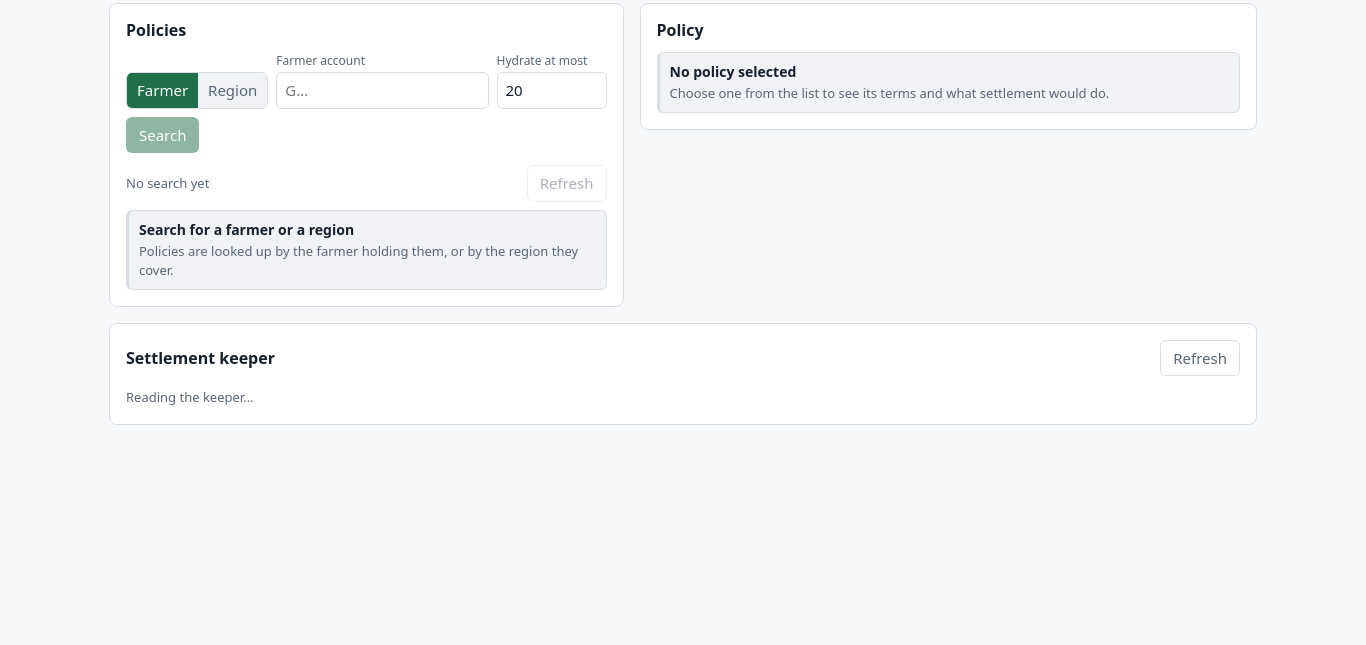
Test: one policy › shows the reason a settlement was refused
In the field labelled "Farmer account": (382, 90) [276, 72, 488, 108], type "GBZX"
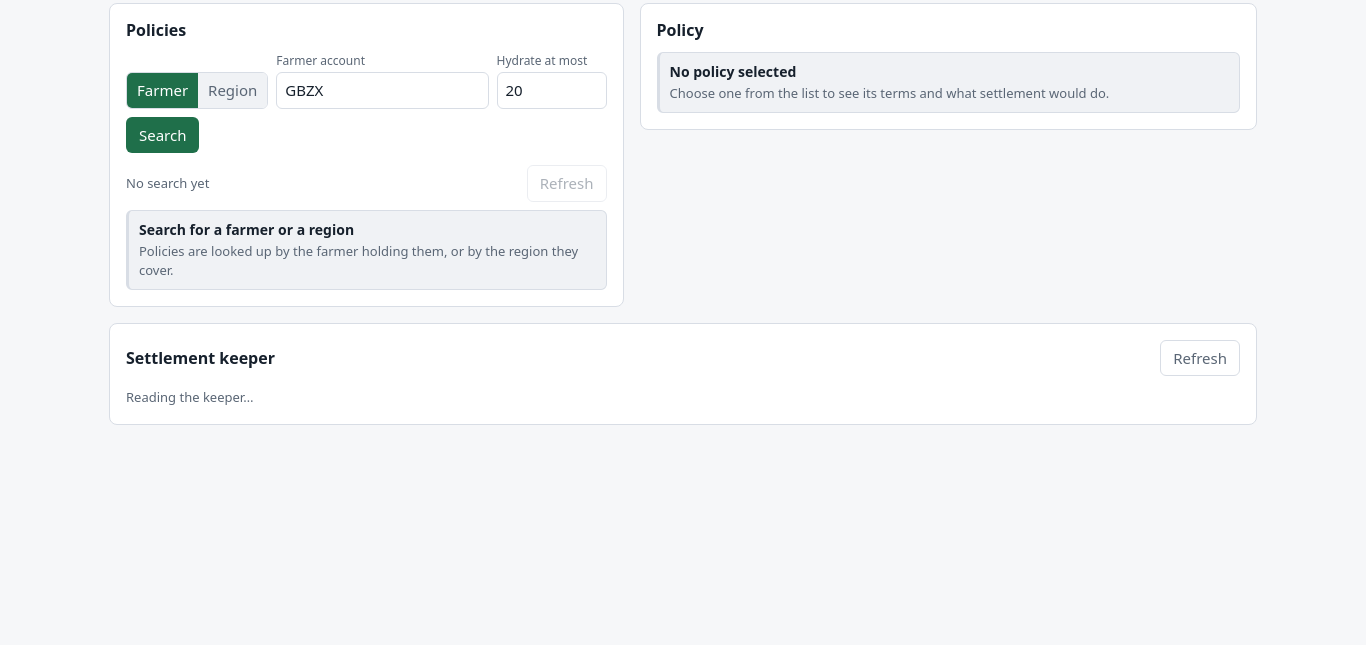
Click the button "Search": (163, 135) [126, 116, 200, 153]
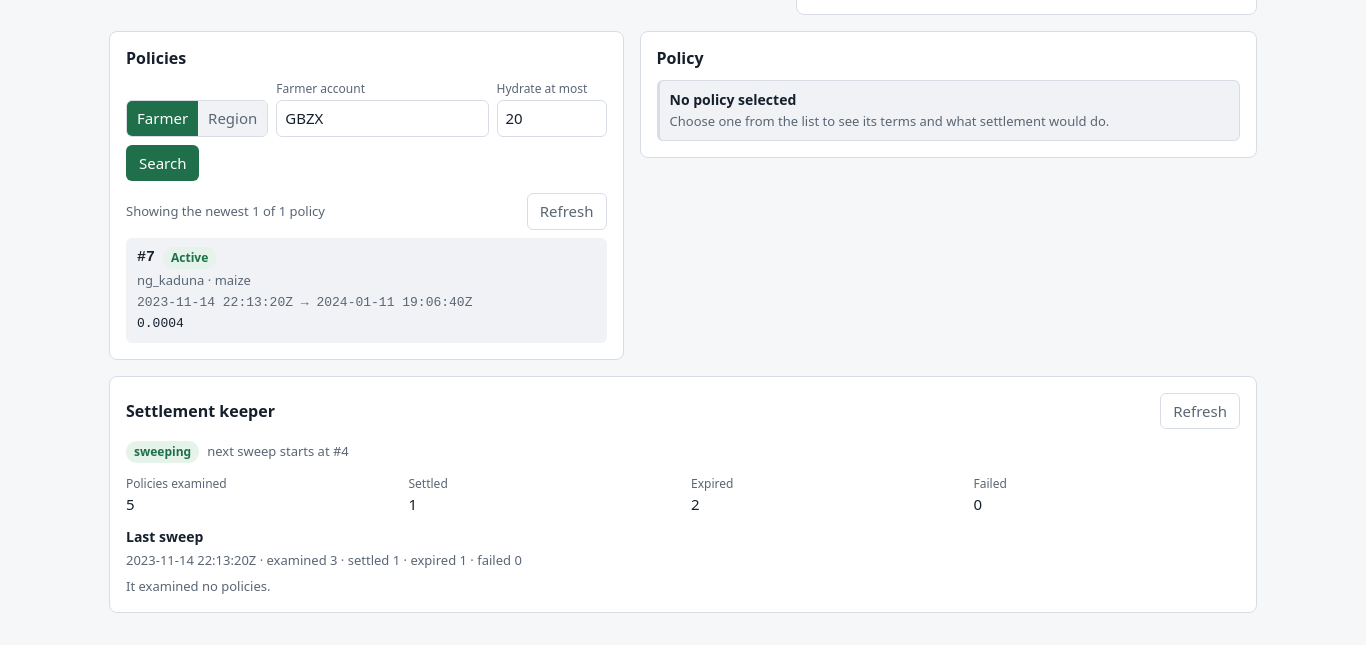
Click the button "#7": (190, 258) [126, 238, 606, 342]
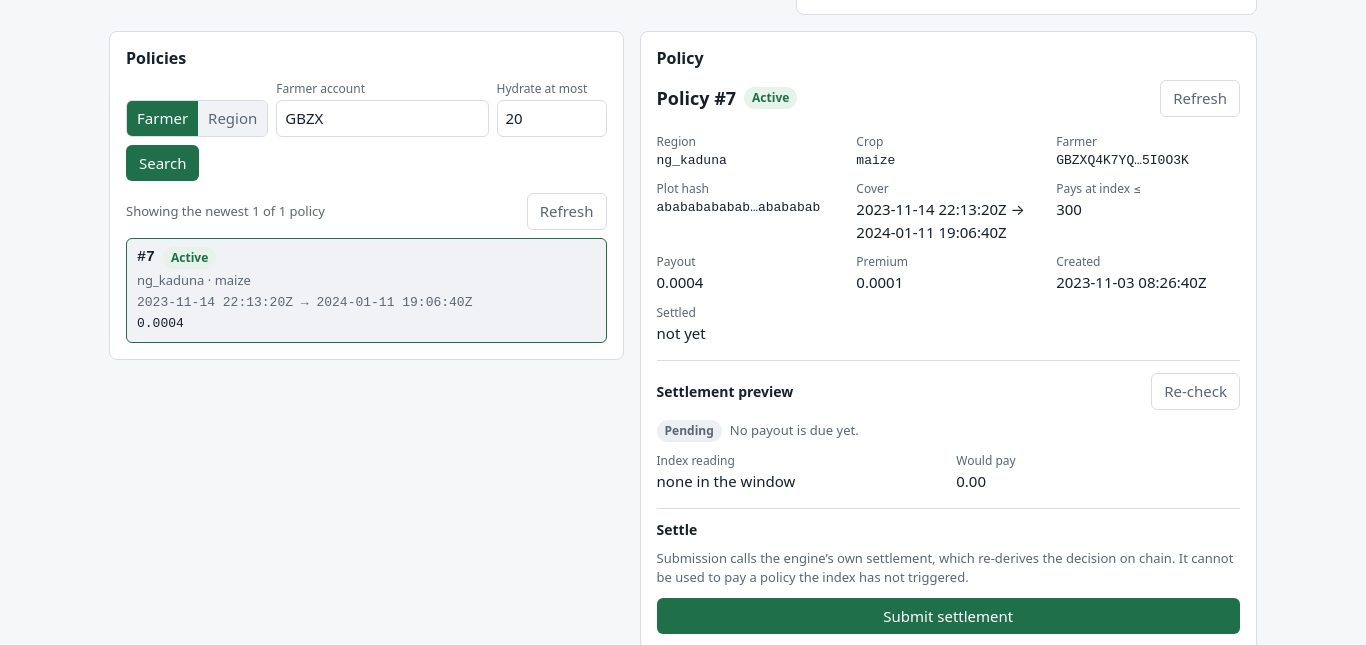
Click the button "Submit settlement": (948, 616) [656, 598, 1240, 634]
(page scrolled)
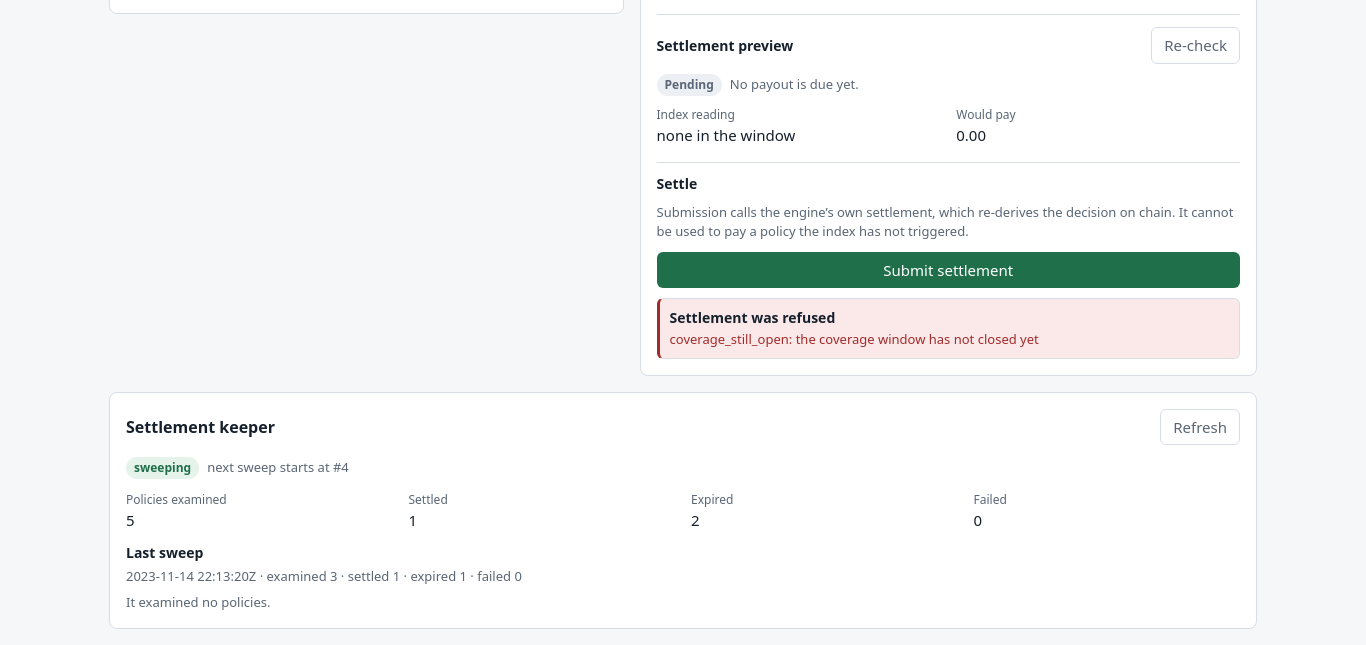
Check: the text "Settlement was refused" is shown, box [670, 308, 835, 327]
Check: the text "coverage_still_open: the coverage window has not closed yet" is shown, box [670, 330, 1039, 348]
